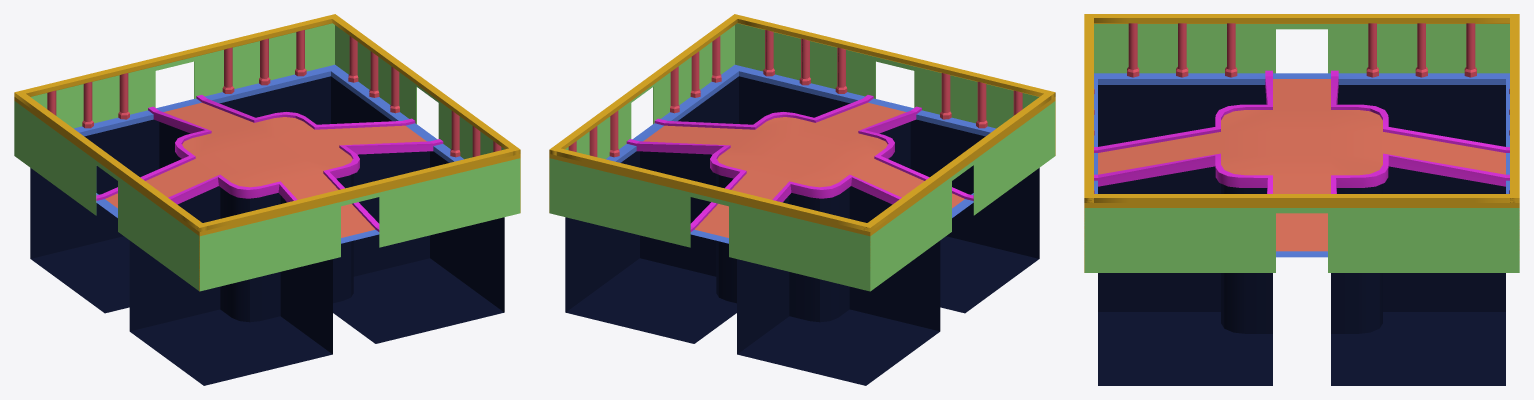
The model's file is CrossUpRoom.fbx.
The picture shows the model from 3 angles, left to right: view 1: azimuth 30°, elevation 25°; view 2: azimuth 150°, elevation 25°; view 3: azimuth 270°, elevation 25°; orthographic projection. The views are drawn at different scales.
Visible parts, largest first — view 1: CrossUpFloorPit, CrossUpFloor, WallSouth, WallNorth, WallWest, WallEast; view 2: CrossUpFloorPit, CrossUpFloor, WallNorth, WallSouth, WallWest, WallEast; view 3: CrossUpFloorPit, CrossUpFloor, WallEast, WallWest, WallSouth, WallNorth.
Part boxes in pixels (bbox=[...]): CrossUpFloorPit: bbox=[30, 76, 504, 385]; CrossUpFloor: bbox=[74, 64, 463, 243]; WallSouth: bbox=[196, 148, 520, 291]; WallNorth: bbox=[16, 14, 338, 128]; WallWest: bbox=[14, 90, 206, 291]; WallEast: bbox=[328, 14, 520, 212]; CrossUpFloorPit: bbox=[565, 76, 1039, 385]; CrossUpFloor: bbox=[606, 64, 995, 243]; WallNorth: bbox=[549, 146, 873, 291]; WallSouth: bbox=[732, 15, 1055, 155]; WallWest: bbox=[863, 92, 1055, 291]; WallEast: bbox=[549, 14, 741, 212]; CrossUpFloorPit: bbox=[1098, 85, 1505, 385]; CrossUpFloor: bbox=[1094, 70, 1509, 257]; WallEast: bbox=[1084, 194, 1519, 272]; WallWest: bbox=[1084, 14, 1519, 77]; WallSouth: bbox=[1084, 14, 1094, 272]; WallNorth: bbox=[1509, 14, 1519, 250].
Size of the model in its own units: 3003 by 1474 by 3003.
